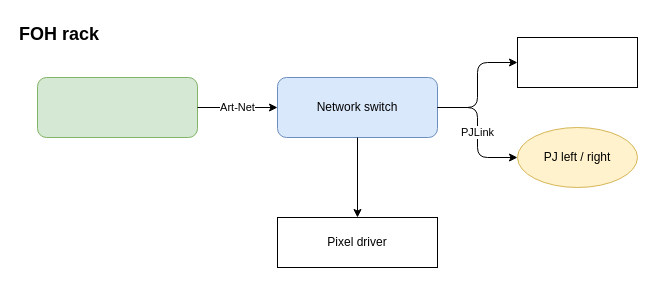
Some shapes in this 655 by 285 pixel diagram are drawn without their labels. Each missing label, with the centre of its shape:
KD Designer controller: the point at 117,107
Media PC: the point at 577,62
